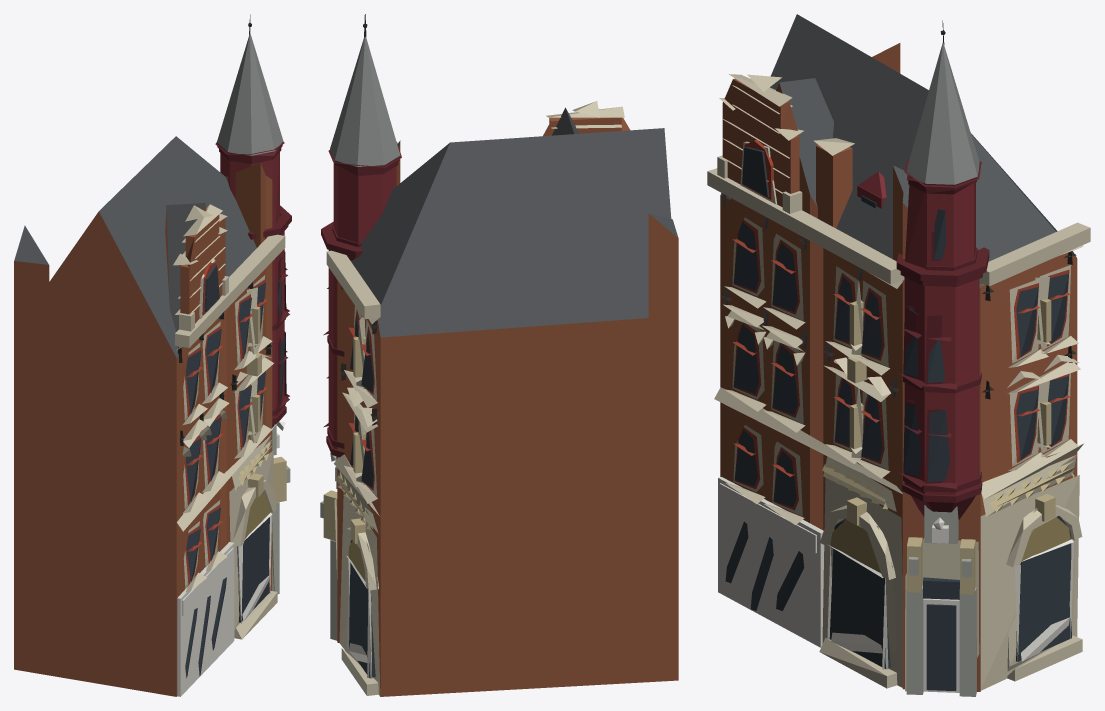
Rendered from leidsestraat-40.lod1.glb.
3 renders of one model, left to right at view 1: azimuth 30°, elevation 25°; view 2: azimuth 150°, elevation 25°; view 3: azimuth 270°, elevation 25°, orthographic. The views are drawn at different scales.
Visible parts, largest first — view 1: leidsestraat-40; view 2: leidsestraat-40; view 3: leidsestraat-40.
Boxes of the visible parts, <box> form: leidsestraat-40: <box>14,14,291,696</box>; leidsestraat-40: <box>320,14,678,696</box>; leidsestraat-40: <box>707,14,1090,696</box>.
Bounding box in the file's own units: 10.23 × 18.8 × 9.8.
